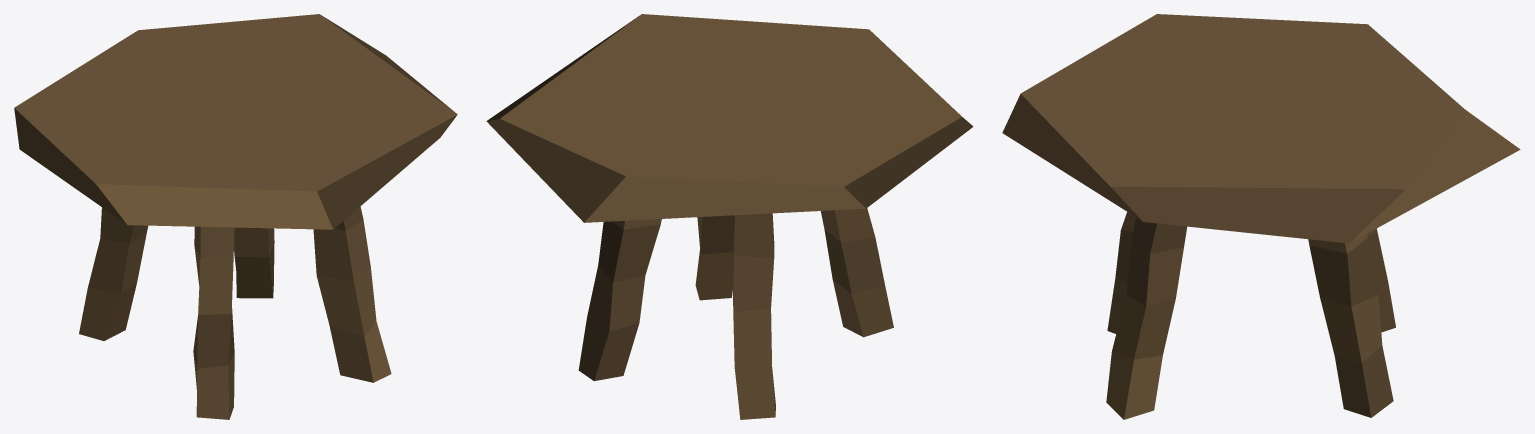
File: MiniTable.fbx
3 renders of one model, left to right at view 1: azimuth 30°, elevation 25°; view 2: azimuth 150°, elevation 25°; view 3: azimuth 270°, elevation 25°, orthographic. The views are drawn at different scales.
Visible parts, largest first — view 1: MiniTable; view 2: MiniTable; view 3: MiniTable.
Boxes of the visible parts, x1,y1,x2,y2 form: MiniTable: [14, 14, 457, 419]; MiniTable: [486, 14, 973, 419]; MiniTable: [1002, 14, 1520, 419].
Size of the model in its own units: 122 by 76.3 by 136.
